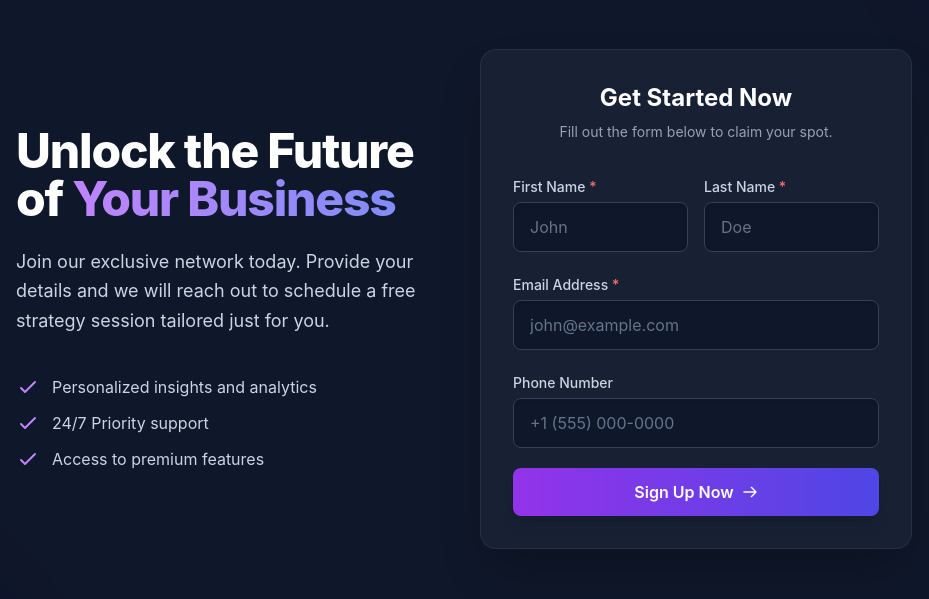
Test: App – failed form submission › shows error banner when network response is not ok
The width and height of the screenshot is (929, 599).
Type "Alice" into the field with id "firstName" at coordinates (600, 227), box [513,202,688,252]
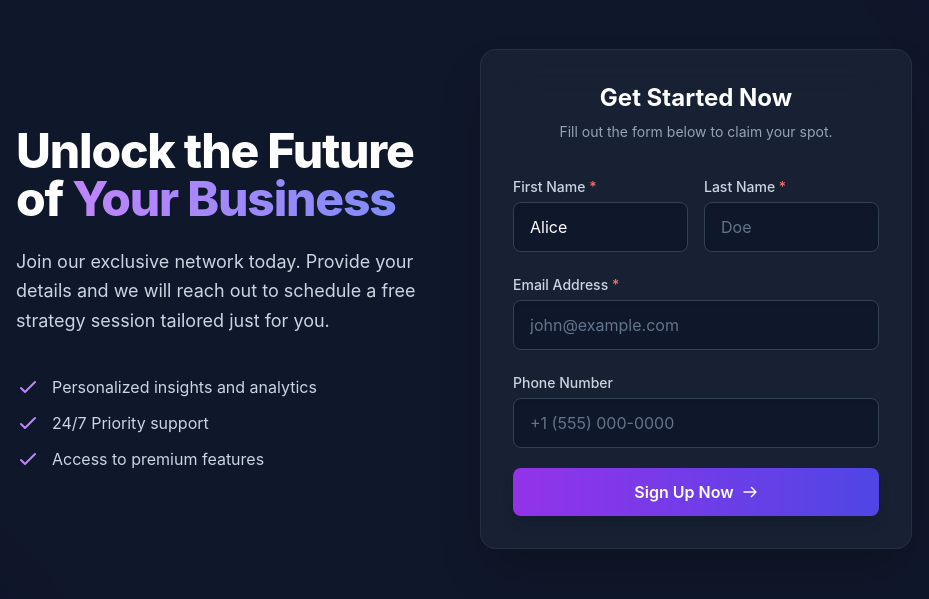
Type "Smith" into the field with id "lastName" at coordinates (792, 227), box [704,202,879,252]
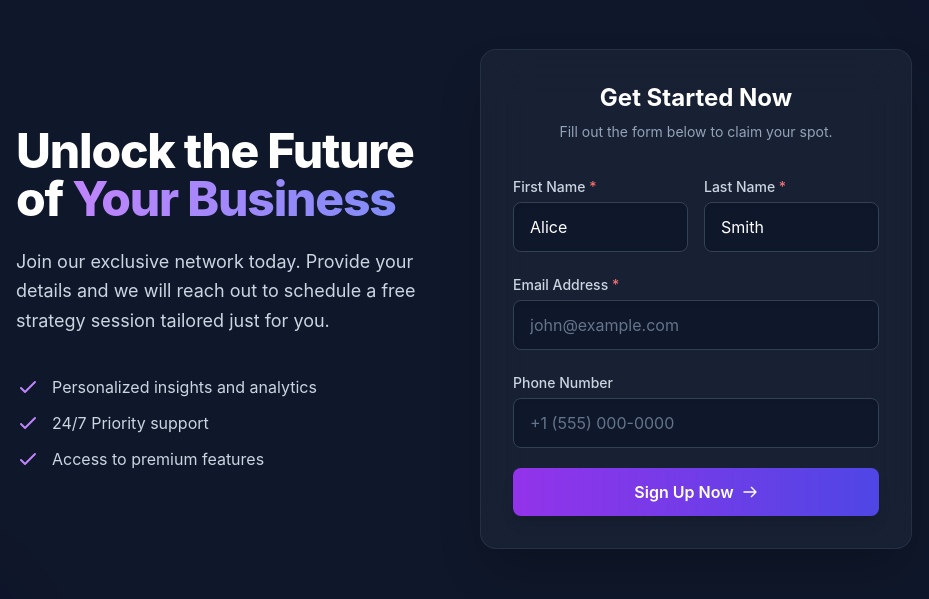
Type "alice@example.com" into the field with id "email" at coordinates (696, 325), box [513,300,879,350]
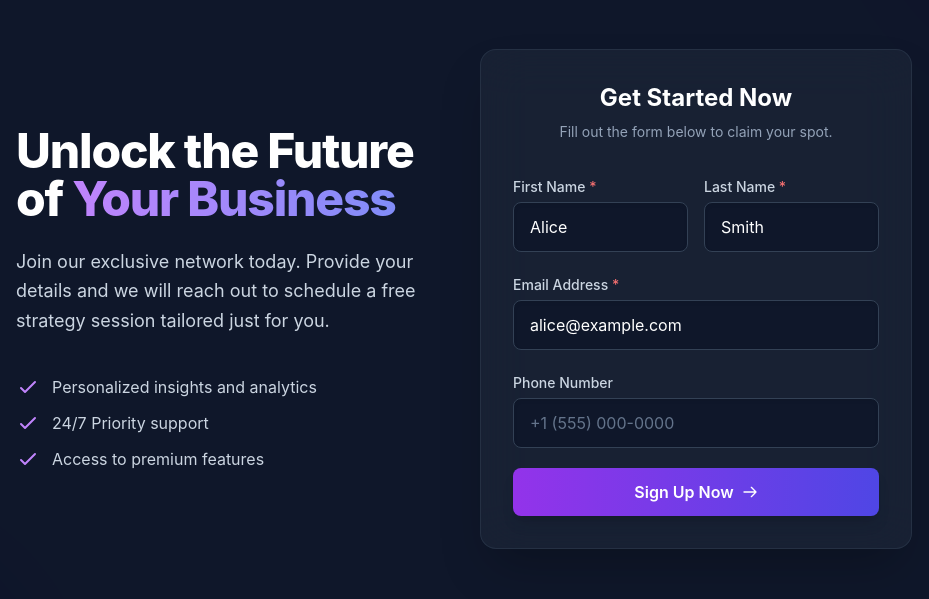
Submit the form, box [513,174,879,516]
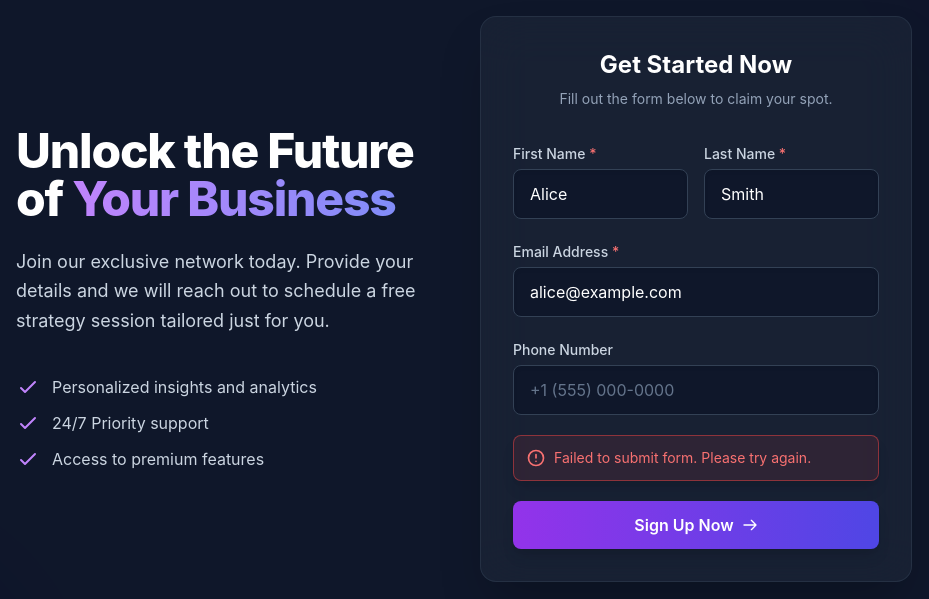
Expected: the text "Failed to submit form. Please try again." is shown, [513,435,879,481]
